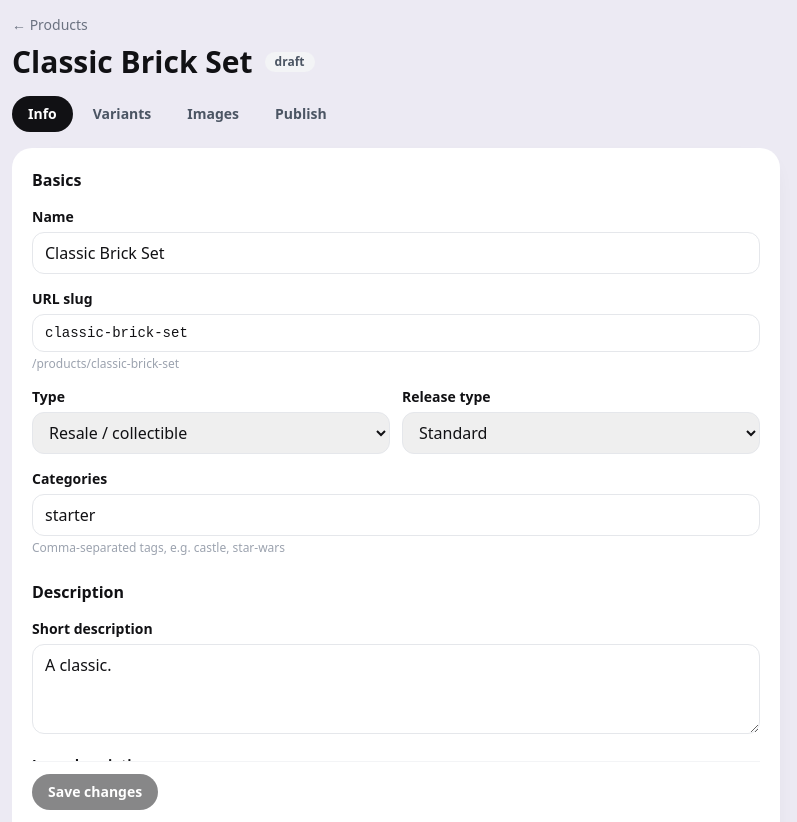
Test case: ProductDetail › renders the Variants tab live: add is enabled once SKU and price are filled
Expected: the heading "Classic Brick Set" is shown, [12,44,253,80]
Click the button "Variants": (122,114) [77,96,167,132]
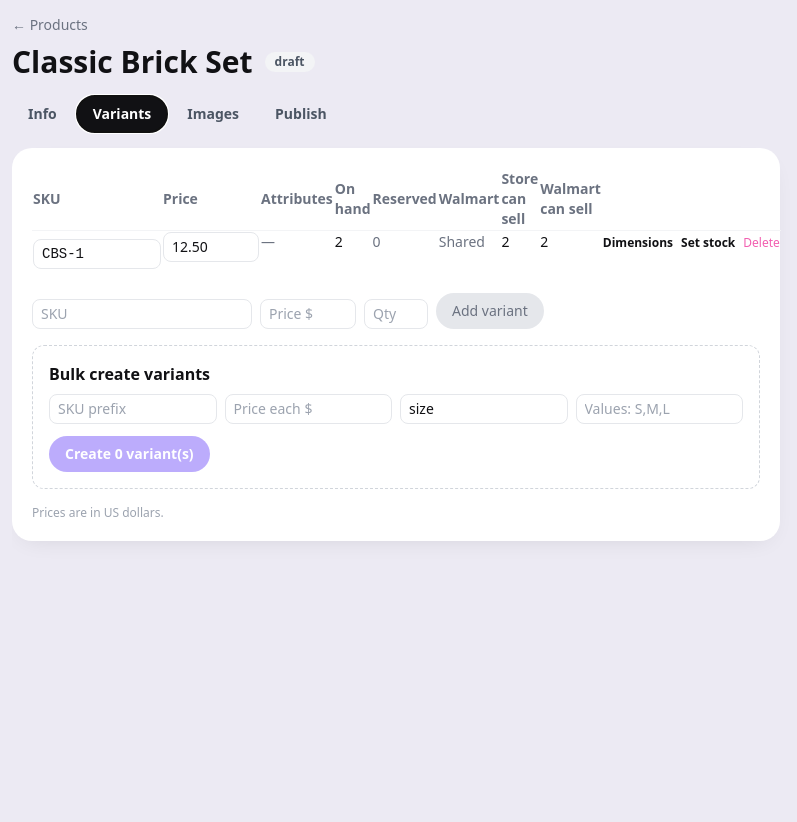
Result: the field with placeholder "SKU" is enabled
Result: the button "Add variant" is disabled at [436,293,544,329]
In the field with placeholder "SKU": (142,314) [32,299,252,329], type "CBS-2"
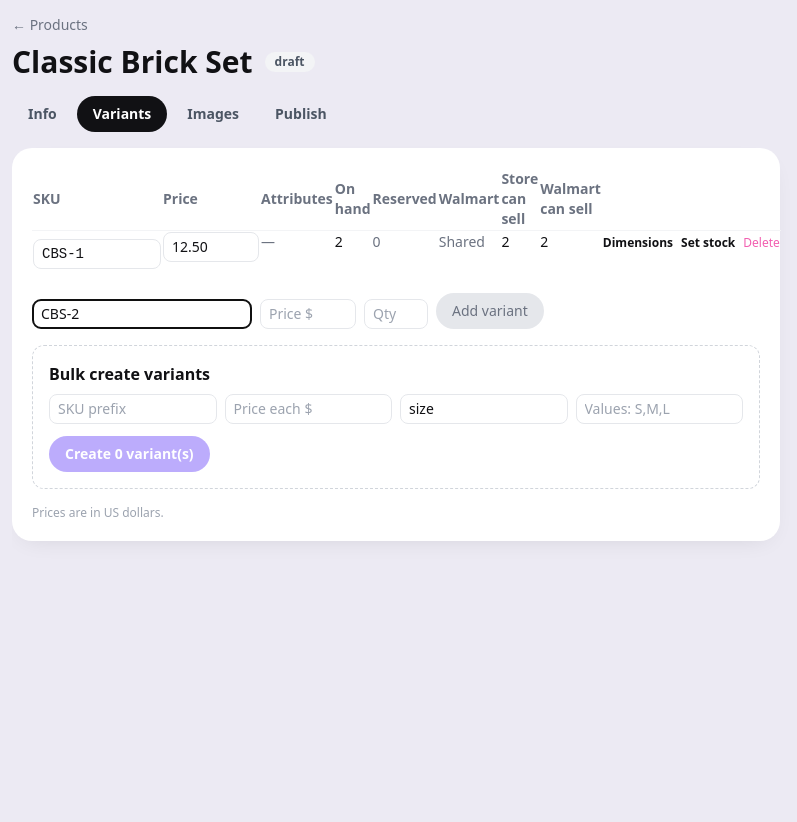
In the field with placeholder "Price $": (308,314) [260,299,356,329], type "9.99"
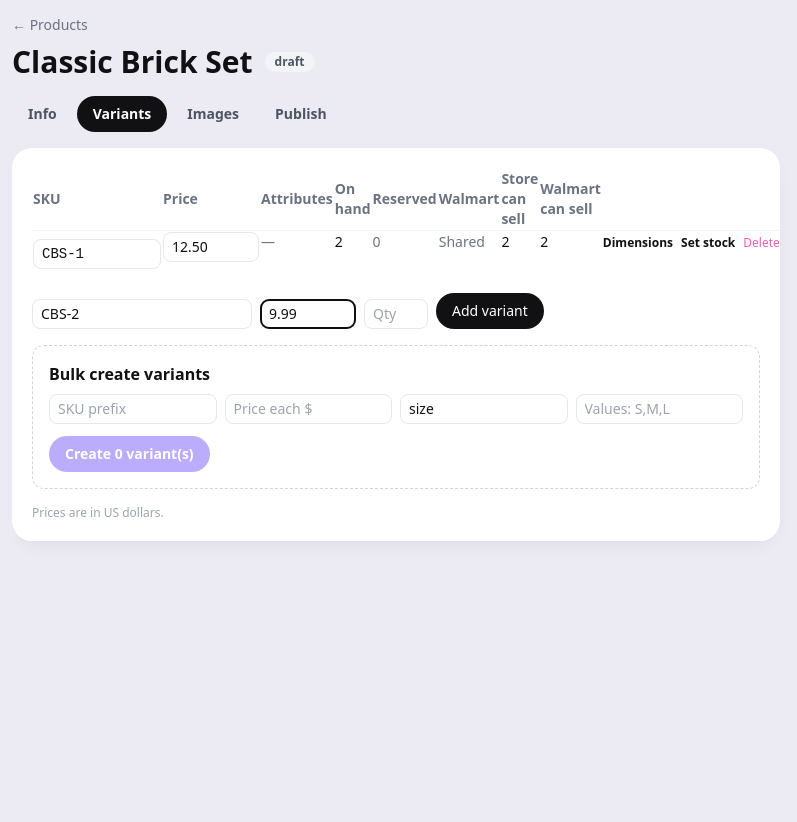
Result: the button "Set stock" is enabled at [681,235,735,251]
Result: the button "Add variant" is enabled at [436,293,544,329]
